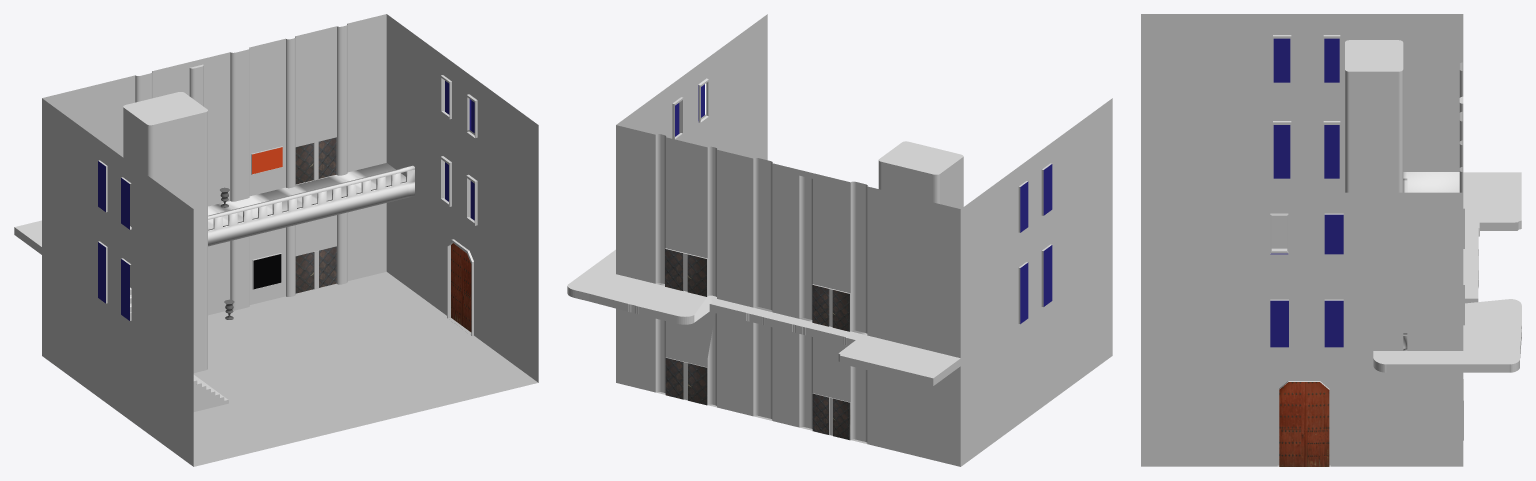
The model's file is InnerCastle.fbx.
3 renders of one model, left to right at view 1: azimuth 30°, elevation 25°; view 2: azimuth 150°, elevation 25°; view 3: azimuth 270°, elevation 25°, orthographic. The views are drawn at different scales.
Visible parts, largest first — view 1: 立方体.014, 立方体.016, Framed modern painting 2, Framed modern painting; view 2: 立方体.014, Framed modern painting 2; view 3: 立方体.014, 立方体.016.
Boxes of the visible parts, x1,y1,x2,y2 form: 立方体.014: (14,14,538,466); 立方体.016: (208,163,414,246); Framed modern painting 2: (252,253,281,289); Framed modern painting: (251,146,282,174); 立方体.014: (567,14,1112,466); Framed modern painting 2: (721,364,749,400); 立方体.014: (1141,14,1521,466); 立方体.016: (1403,172,1459,350).
Bounding box in the file's own units: 1352 × 897 × 1129.
